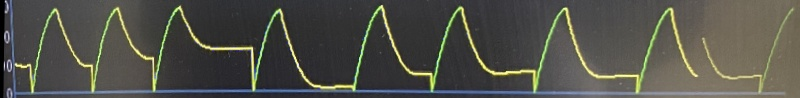leakage: (8, 0, 754, 98)
